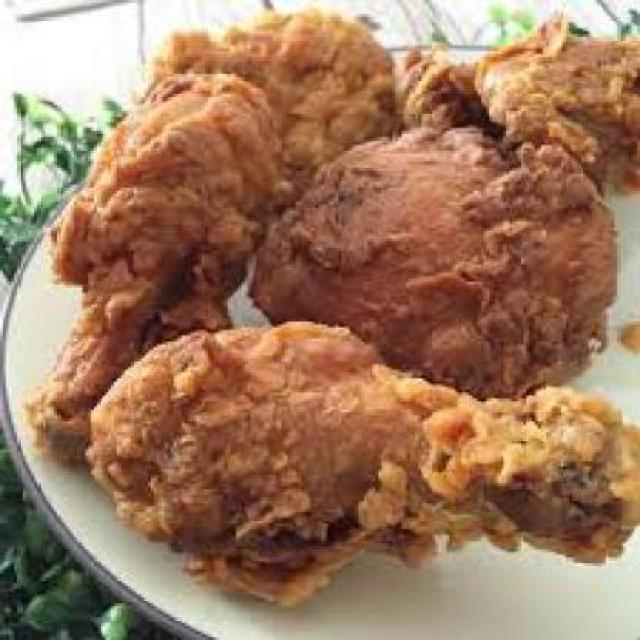Chicken -Fried Chicken-: (91, 325, 637, 597), (143, 26, 637, 234), (32, 71, 280, 458), (248, 131, 617, 386)
